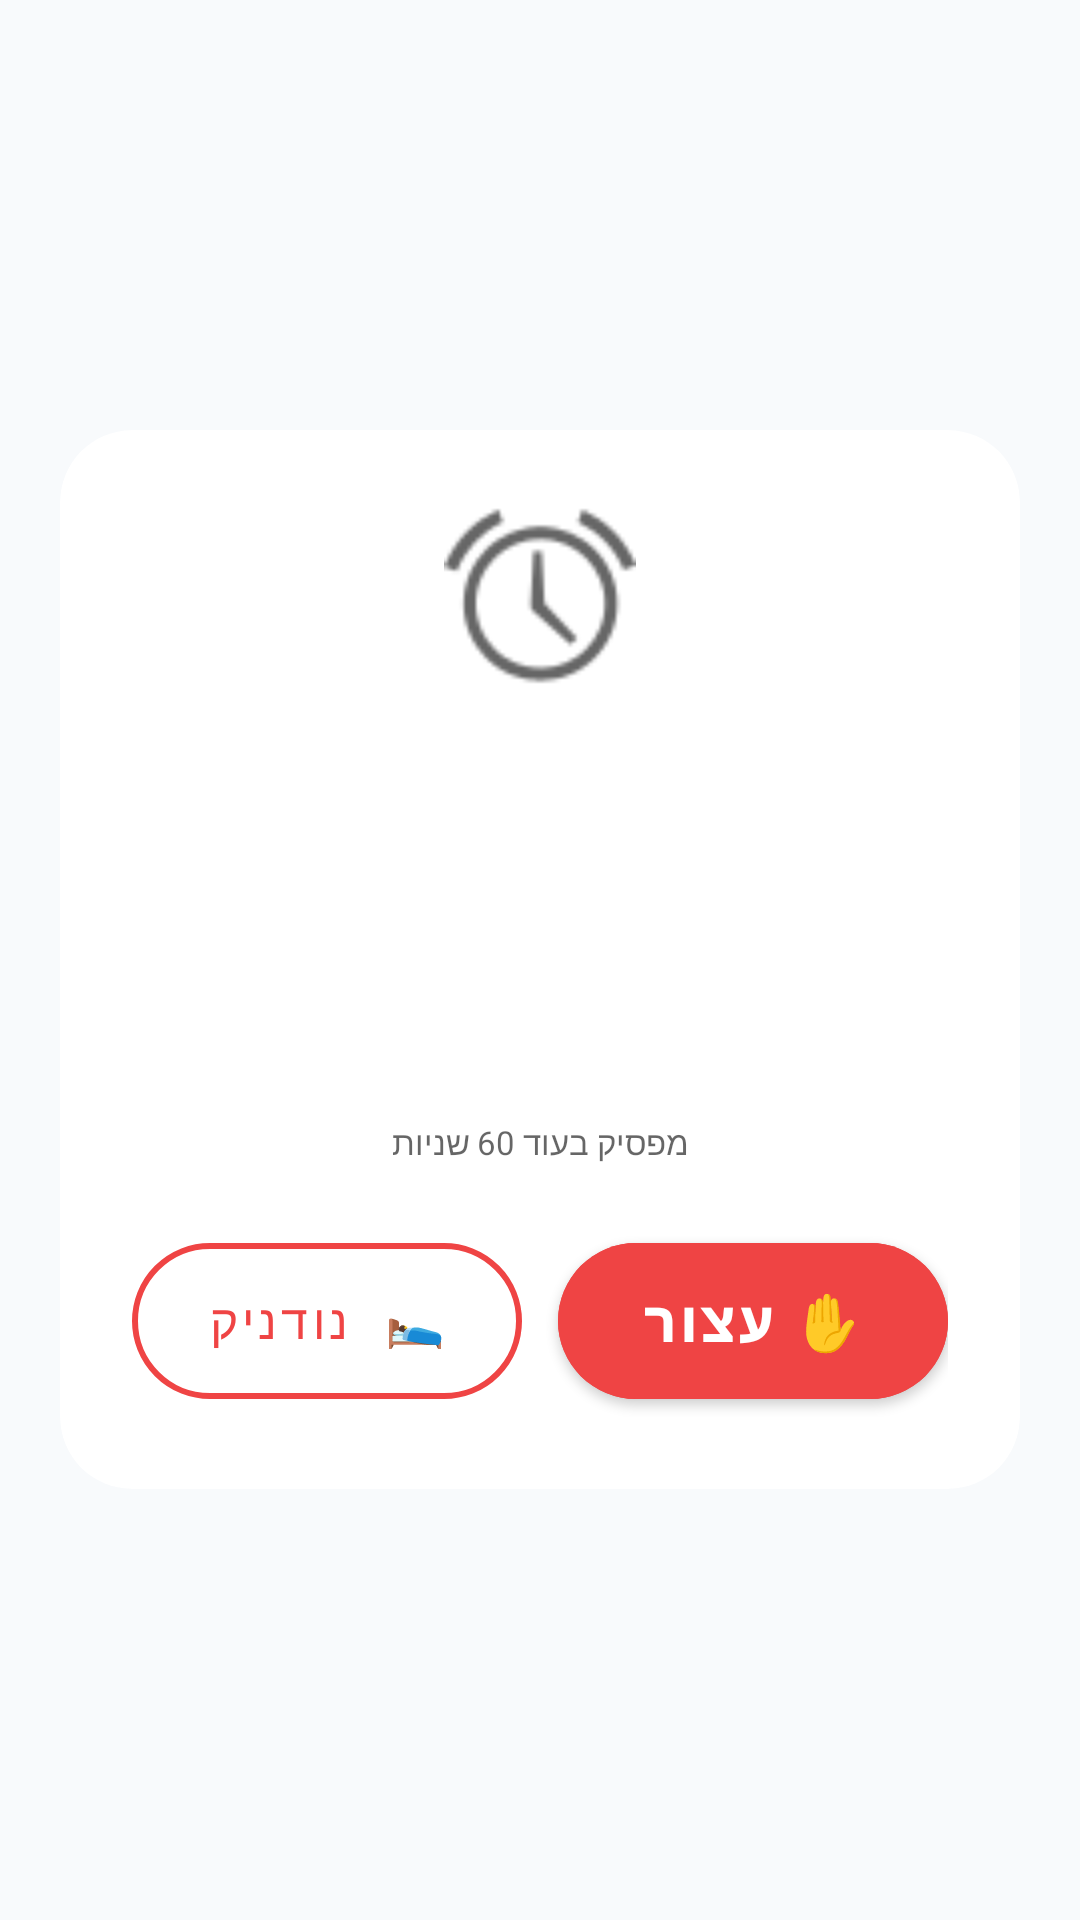

Screen size 1080px x 1920px. Icon name, then its box in pixels as BBox(x1, y1, x2, y2):
lock idle alarm: BBox(444, 509, 636, 683)
